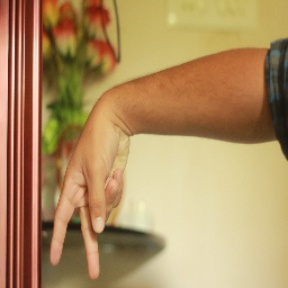Y: (47, 105, 137, 281)
